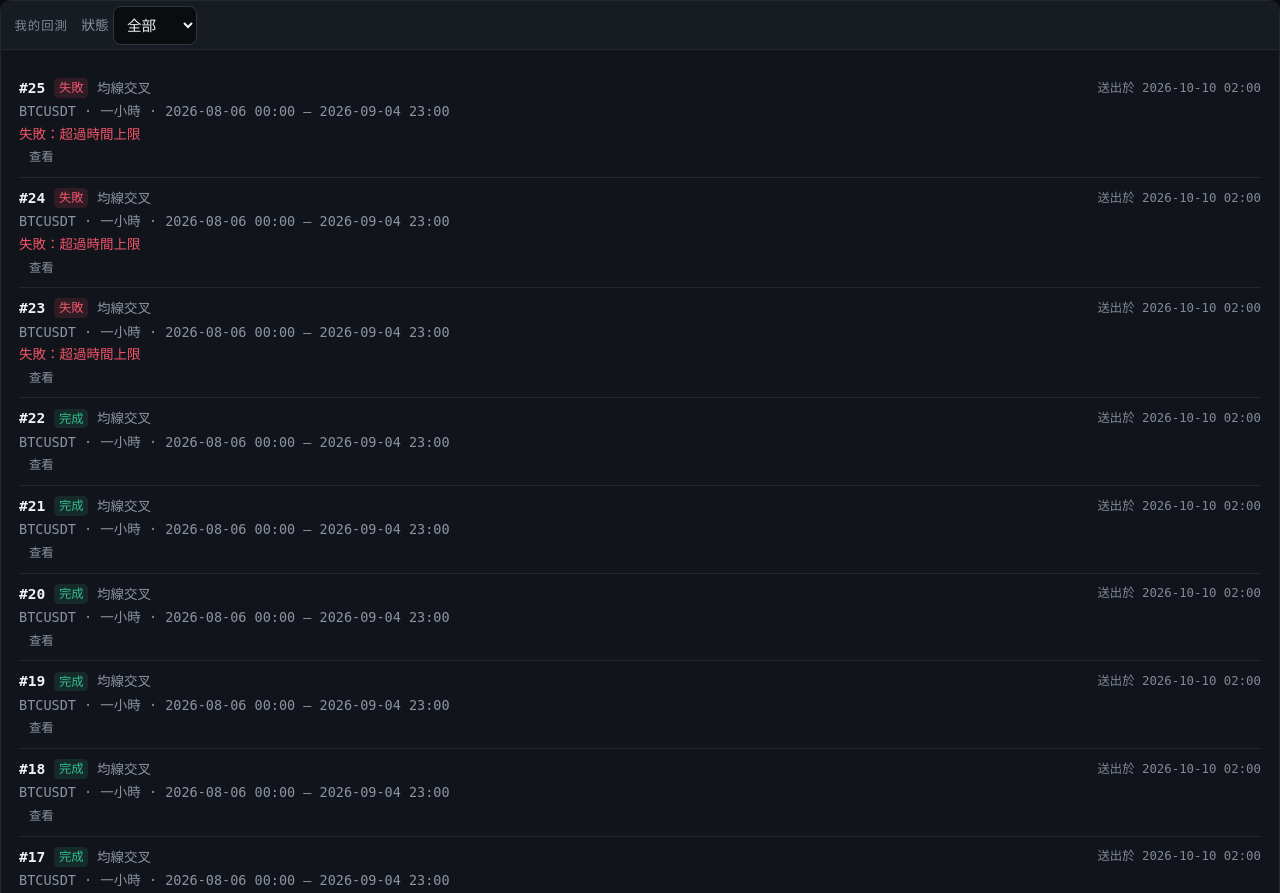
Test: BacktestRunsPage › 篩失敗就只列那三筆
Select "失敗" in the dropdown with test id "backtest-run-status-filter" at (155, 25), box [113,6,197,44]
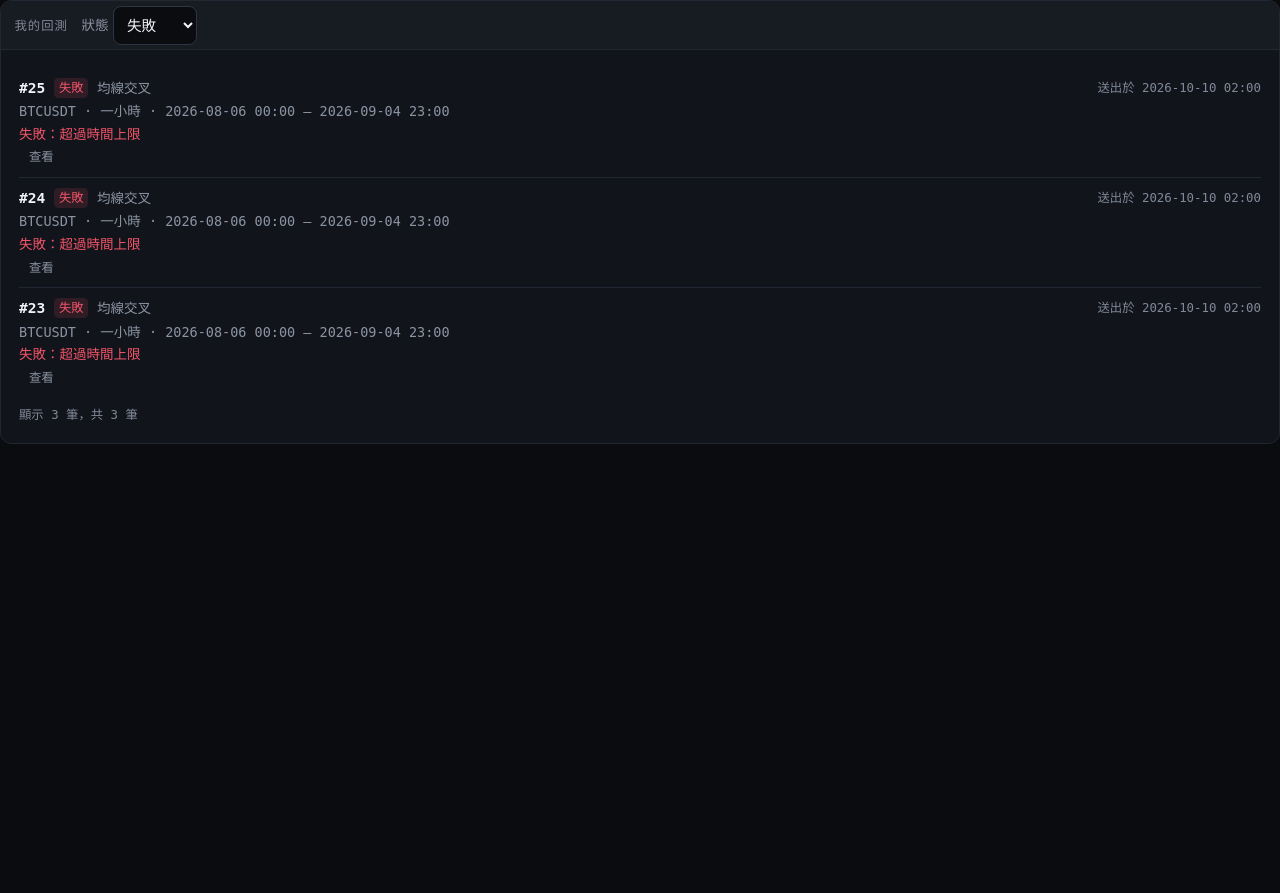
Result: the number of list items with test id "backtest-run-row" is 3 at [19,68,1261,178]; [19,178,1261,288]; [19,288,1261,398]
